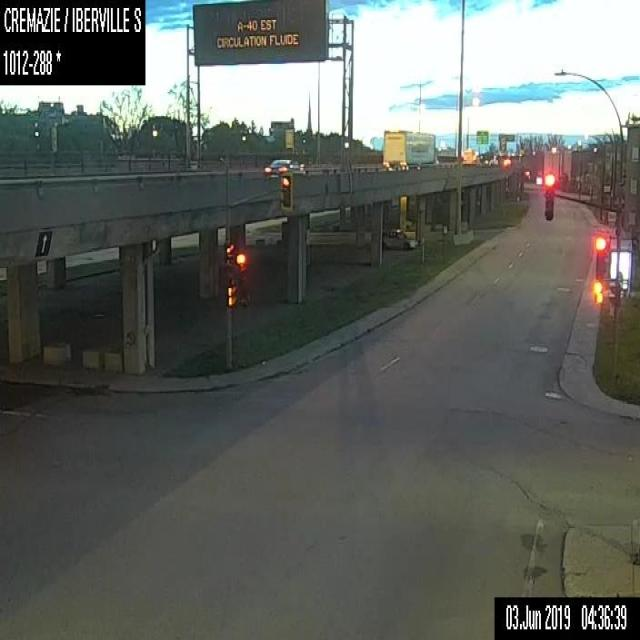vehicle: (381, 128, 438, 169), (262, 156, 304, 175), (382, 227, 416, 248), (462, 148, 480, 164)
